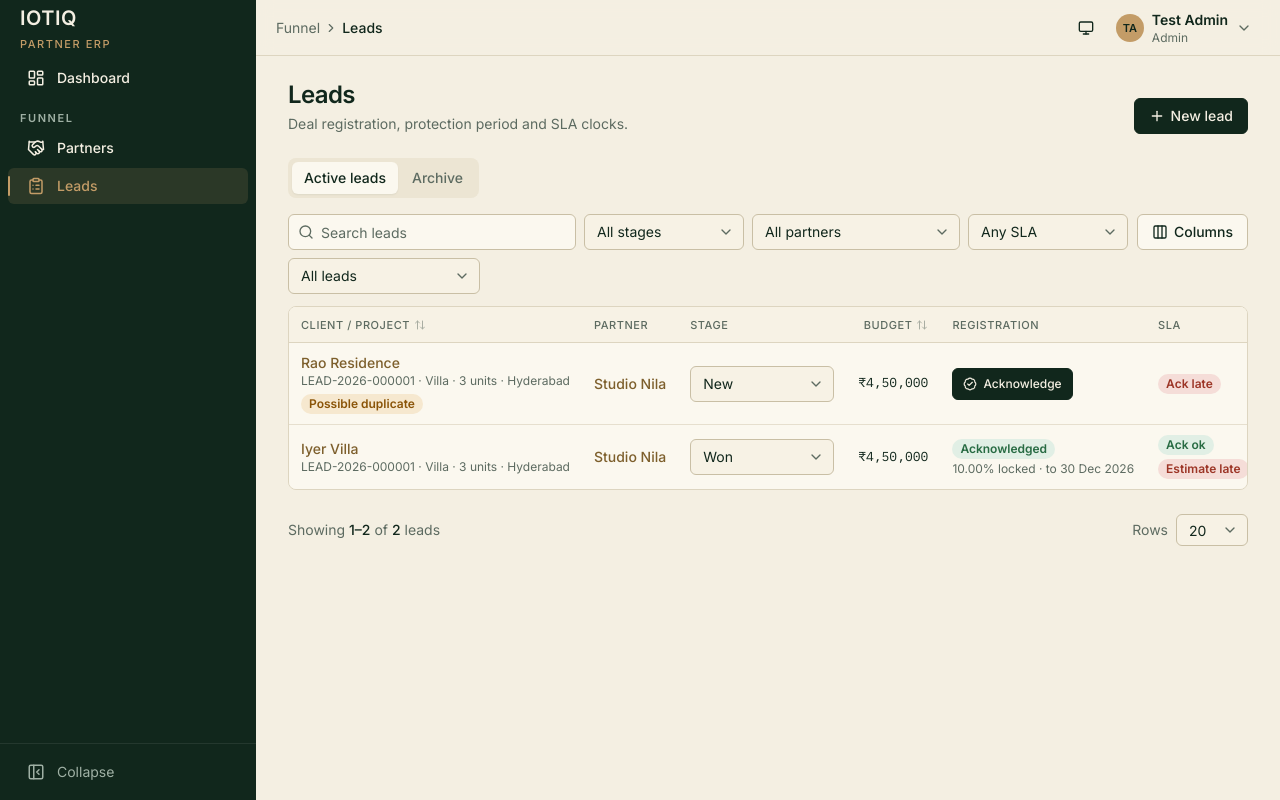
Test: lead list › confirms acknowledgement with the fee rate and protection period
The image size is (1280, 800).
Click the button with aria-label "Acknowledge Rao Residence".
click(1013, 384)  # box top-left (952, 368), bottom-right (1073, 400)
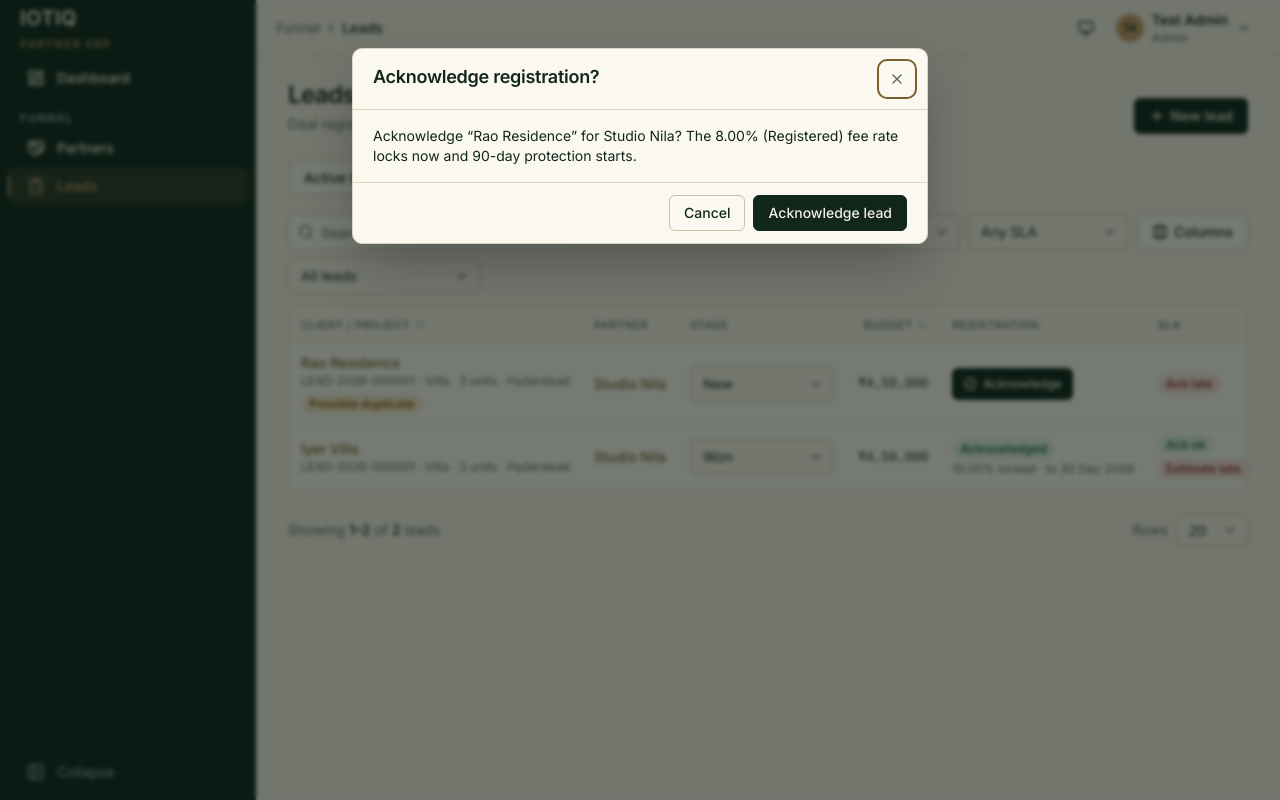
expect the dialog "Acknowledge registration?" shows "Acknowledge “Rao Residence” for Studio Nila? The 8.00% (Registered) fee rate locks now and 90-day protection starts.": met, box top-left (352, 48), bottom-right (928, 244)
Click the button "Acknowledge lead".
click(830, 213)  # box top-left (754, 195), bottom-right (907, 231)
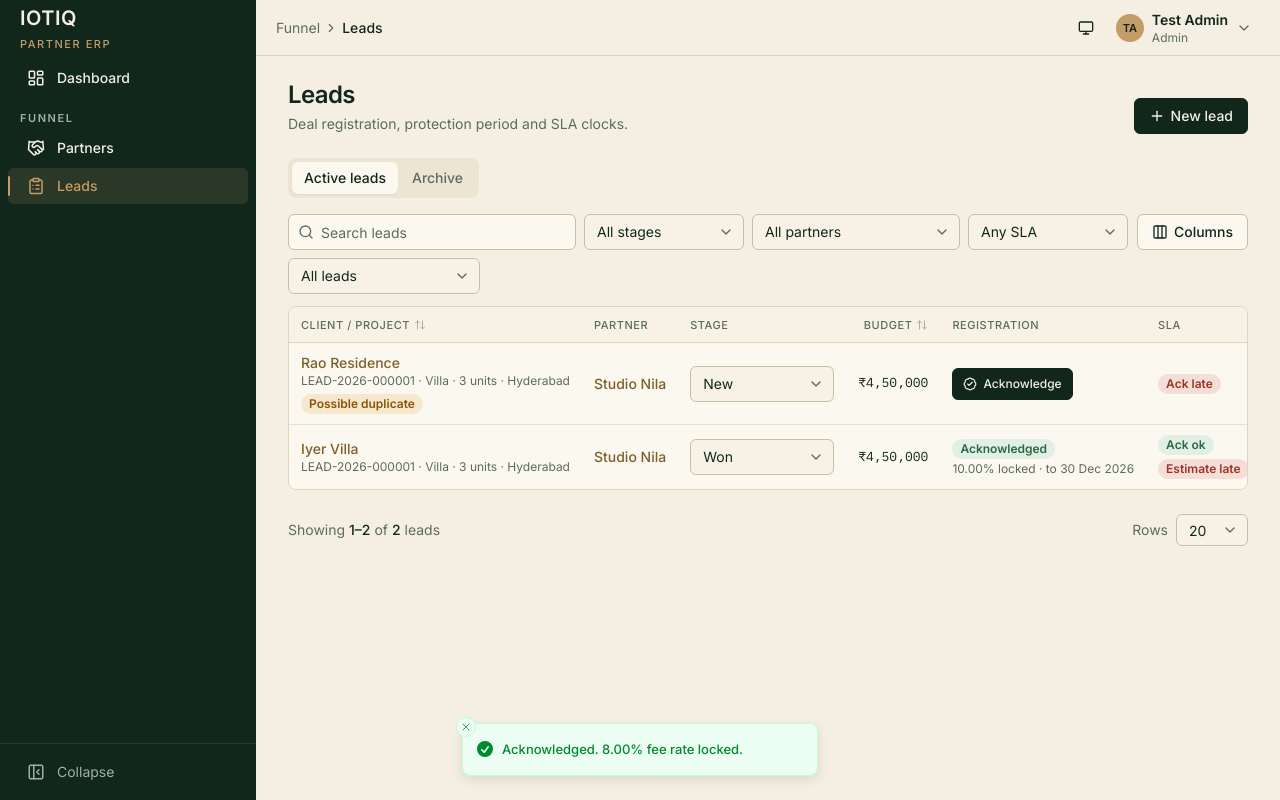
expect the text "Acknowledged. 8.00% fee rate locked." is shown: met, box top-left (502, 740), bottom-right (743, 759)
